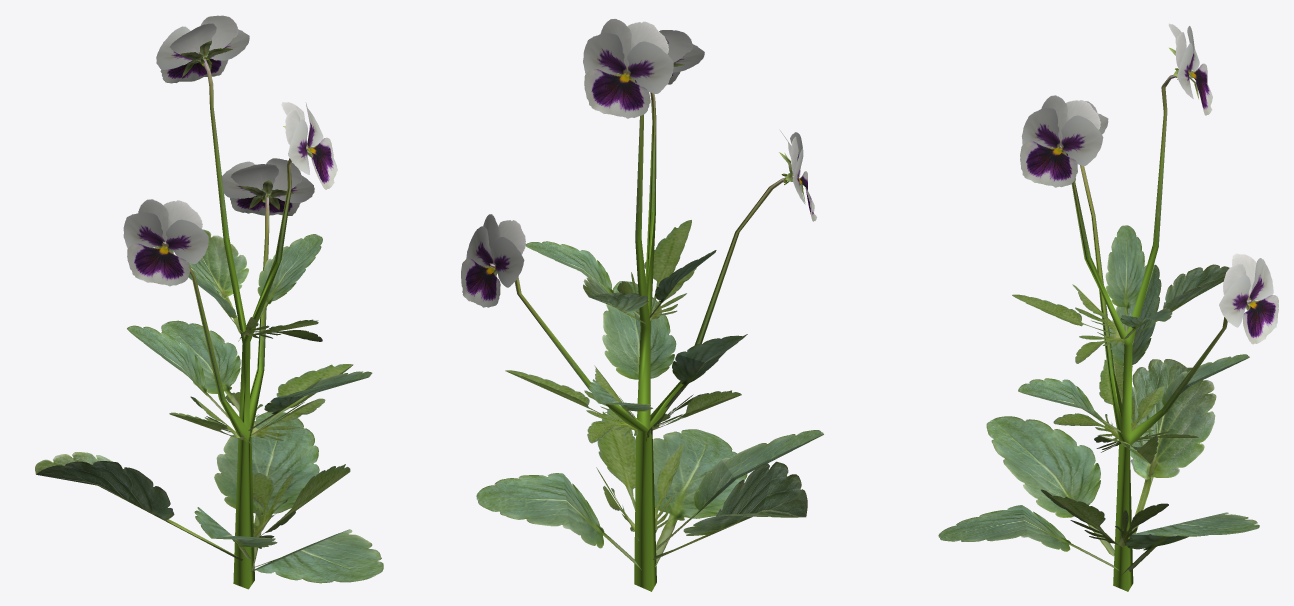
File: Viola3E.fbx
3 views of the same model, side by side, from view 1: azimuth 30°, elevation 25°; view 2: azimuth 150°, elevation 25°; view 3: azimuth 270°, elevation 25° (orthographic). The views are drawn at different scales.
Parts seen in each view (by area): view 1: Viola3E_LOD0; view 2: Viola3E_LOD0; view 3: Viola3E_LOD0.
Part boxes in pixels (left/top/right/bottom): Viola3E_LOD0: left=35, top=15, right=383, bottom=589; Viola3E_LOD0: left=461, top=19, right=823, bottom=591; Viola3E_LOD0: left=938, top=23, right=1278, bottom=591.
Size of what is drawn, in the model's own units: 44.96 by 73.46 by 46.03.
